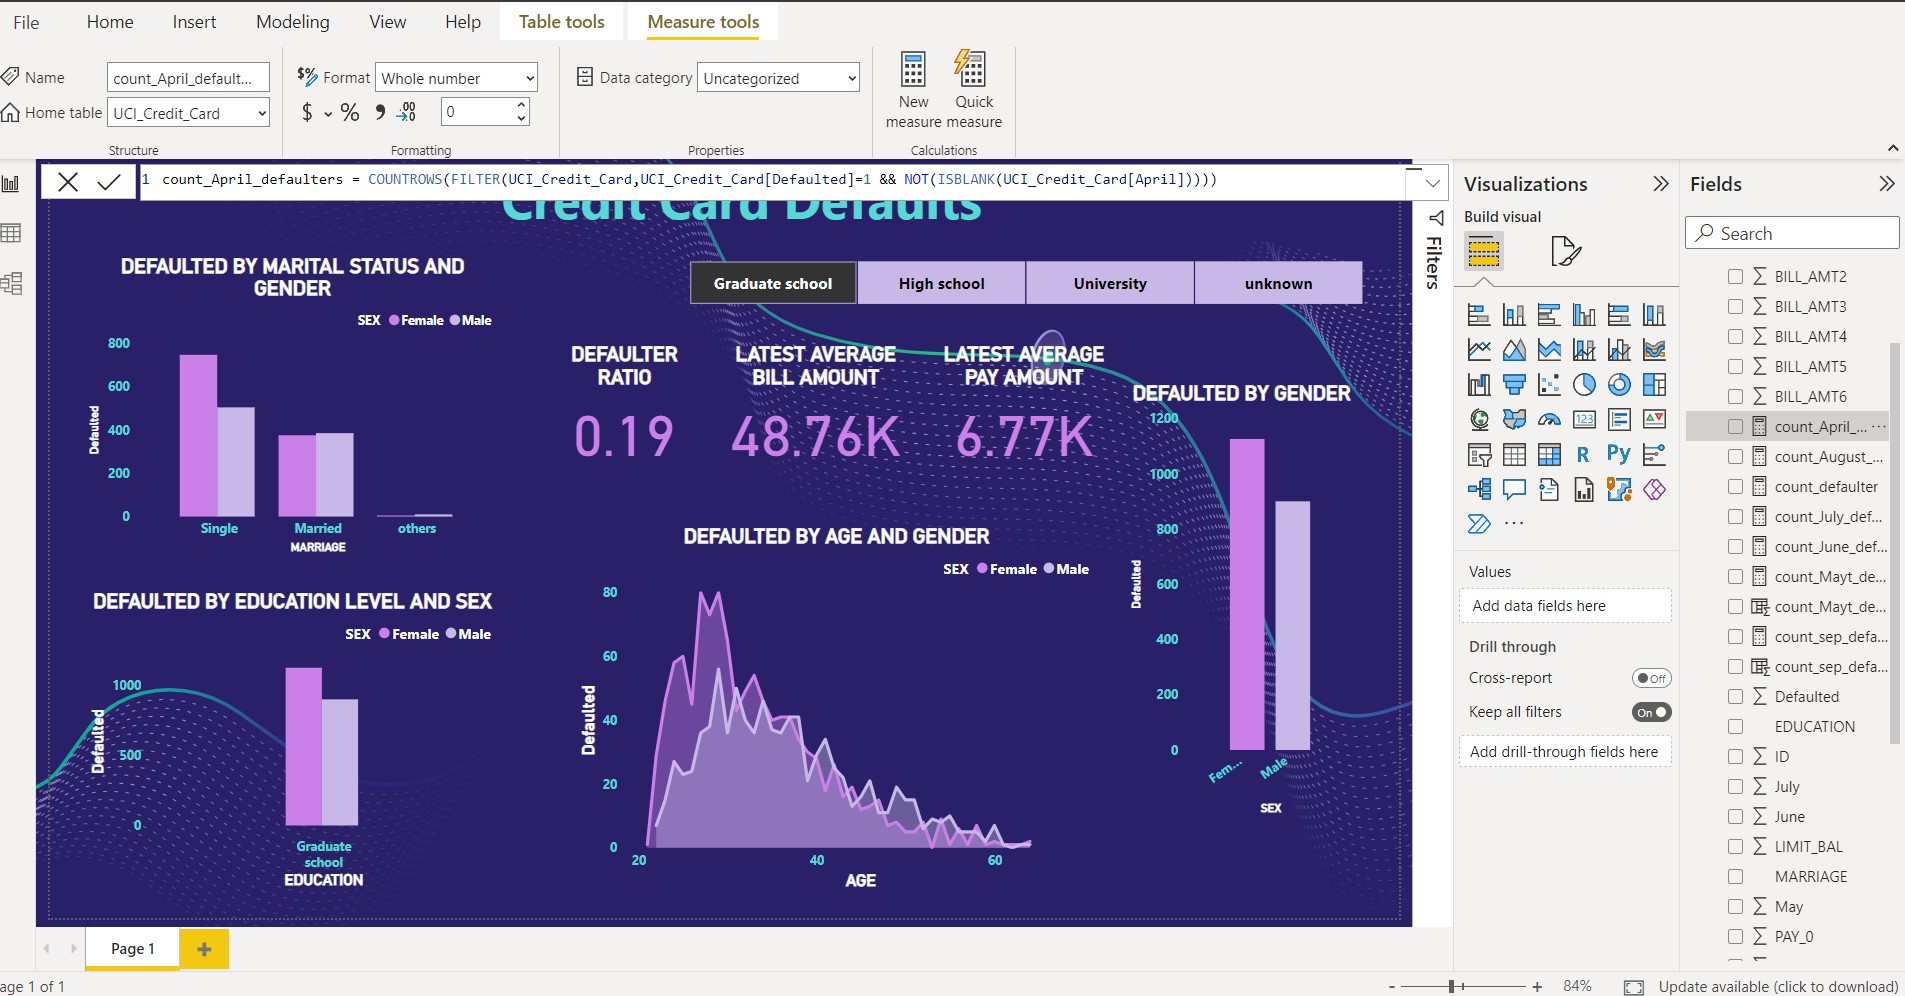

What the dashboard file says about the page in this screenshot:
{"tool":"powerbi","page":{"name":"Page 1","canvas":[1280,720],"ordinal":0},"visuals":[{"type":"clusteredColumnChart","title":"DEFAULTED BY EDUCATION LEVEL AND SEX","fields":{"Category":["UCI_Credit_Card.EDUCATION"],"Y":["Sum(UCI_Credit_Card.default.payment.next.month)"],"Series":["UCI_Credit_Card.SEX"]},"box":[32.5,408.4,396.4,289.2],"z":0},{"type":"areaChart","title":"DEFAULTED BY AGE AND GENDER","fields":{"Category":["UCI_Credit_Card.AGE"],"Y":["Sum(UCI_Credit_Card.Defaulted)"],"Series":["UCI_Credit_Card.SEX"]},"box":[497.6,345.8,498.8,351.8],"z":1000},{"type":"clusteredColumnChart","title":"DEFAULTED BY GENDER","fields":{"Y":["Sum(UCI_Credit_Card.default.payment.next.month)"],"Category":["UCI_Credit_Card.SEX"]},"box":[1020.5,210.8,221.7,415.7],"z":2000},{"type":"clusteredColumnChart","title":"DEFAULTED BY MARITAL STATUS AND GENDER","fields":{"Y":["Sum(UCI_Credit_Card.default.payment.next.month)"],"Series":["UCI_Credit_Card.SEX"],"Category":["UCI_Credit_Card.MARRIAGE"]},"box":[32.5,90.4,396.4,289.2],"z":3000},{"type":"card","title":"DEFAULTER RATIO","fields":{"Values":["Avg(UCI_Credit_Card.Defaulted)"]},"box":[463.9,174.7,162.7,120.5],"z":4000},{"type":"card","title":"LATEST AVERAGE BILL AMOUNT","fields":{"Values":["Avg(UCI_Credit_Card.BILL_AMT1)"]},"box":[639.8,174.7,174.7,120.5],"z":5000},{"type":"card","title":"LATEST AVERAGE PAY AMOUNT","fields":{"Values":["Avg(UCI_Credit_Card.PAY_AMT1)"]},"box":[827.7,174.7,192.8,120.5],"z":6000},{"type":"slicer","title":"DEFAULTED BY GENDER","fields":{"Values":["UCI_Credit_Card.EDUCATION"]},"box":[580.7,90.4,688,54.2],"z":7000},{"type":"textbox","box":[291.6,0,728.9,90.4],"z":7001}]}

Visuals, with their boxes on the page's 1280x720 design canvas (x1, y1, x2, y2). These are canvas units, not pixel positions in the 1905x996 screenshot, which may show the page scaled, cropped or inside an application window:
"DEFAULTED BY EDUCATION LEVEL AND SEX" clusteredColumnChart: 32:408:429:698
"DEFAULTED BY AGE AND GENDER" areaChart: 498:346:996:698
"DEFAULTED BY GENDER" clusteredColumnChart: 1020:211:1242:626
"DEFAULTED BY MARITAL STATUS AND GENDER" clusteredColumnChart: 32:90:429:380
"DEFAULTER RATIO" card: 464:175:627:295
"LATEST AVERAGE BILL AMOUNT" card: 640:175:814:295
"LATEST AVERAGE PAY AMOUNT" card: 828:175:1020:295
"DEFAULTED BY GENDER" slicer: 581:90:1269:145
textbox: 292:0:1020:90
